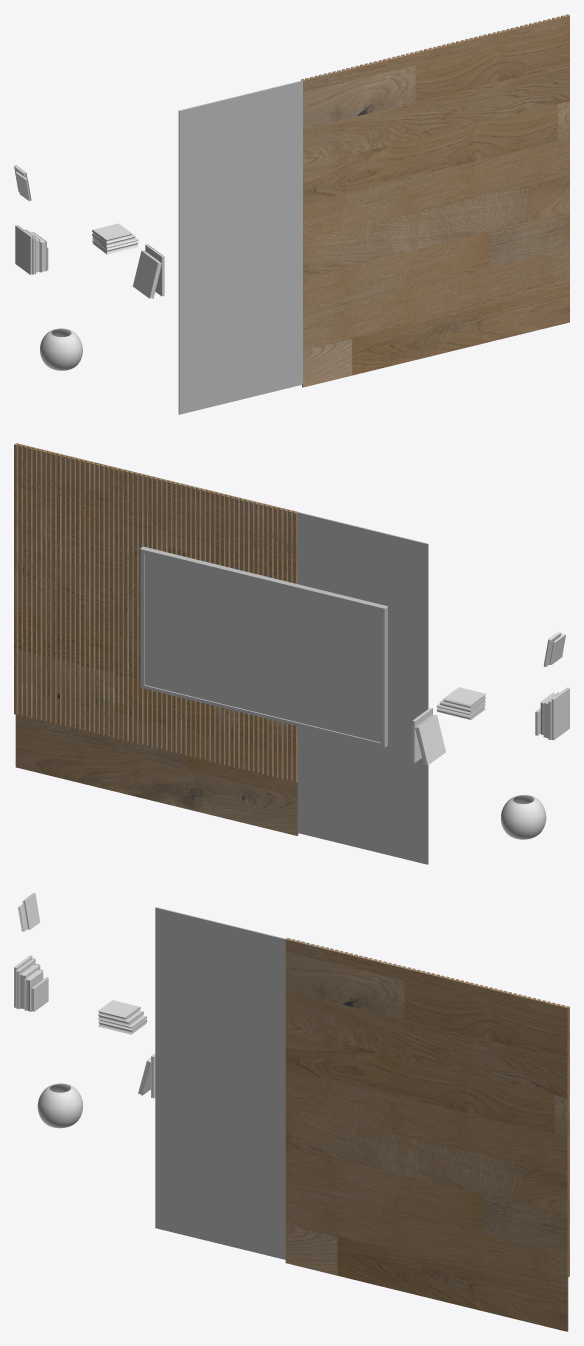
Rendered from Mainroom_add.fbx.
3 views of the same model, one above another, from view 1: azimuth 30°, elevation 25°; view 2: azimuth 150°, elevation 25°; view 3: azimuth 330°, elevation 25° (orthographic). The views are drawn at different scales.
Parts seen in each view (by area): view 1: wall 01, wall 02, white vase, book 37, book 35-2, book 12-2; view 2: wall 01, 平面.016, wall 02, 平面.015, white vase, book 37, book 35-2, book 12-2; view 3: wall 01, wall 02, white vase, book 12-2.
Boxes of the visible parts, x1,y1,x2,y2 form: wall 01: [301, 14, 569, 387]; wall 02: [178, 80, 302, 414]; white vase: [40, 328, 82, 370]; book 37: [132, 250, 161, 298]; book 35-2: [15, 225, 32, 274]; book 12-2: [92, 223, 132, 243]; wall 01: [14, 443, 298, 835]; 平面.016: [145, 553, 380, 742]; wall 02: [297, 512, 428, 864]; 平面.015: [140, 546, 387, 747]; white vase: [501, 795, 546, 839]; book 37: [415, 714, 445, 765]; book 35-2: [551, 687, 569, 740]; book 12-2: [443, 687, 485, 708]; wall 01: [285, 938, 569, 1331]; wall 02: [155, 907, 285, 1259]; white vase: [37, 1083, 82, 1128]; book 12-2: [97, 1000, 140, 1021].
Size of the model in its own units: 1314 by 723 by 108.
